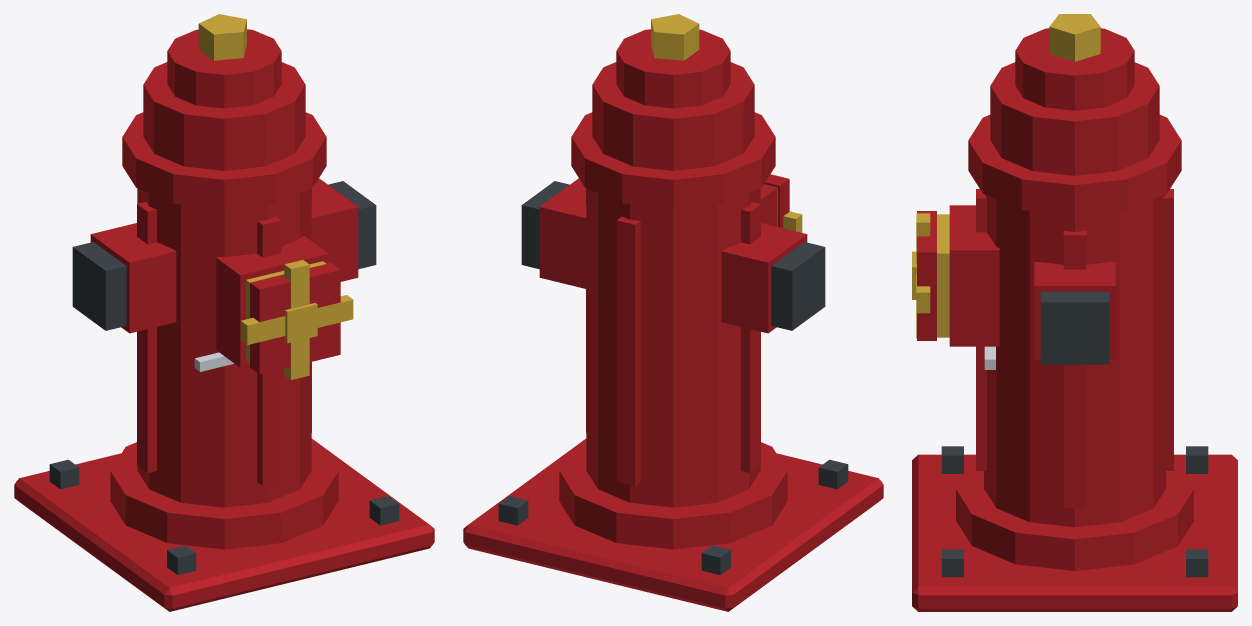
The model's file is obs_fire_hydrant_geyser.glb.
3 renders of one model, left to right at view 1: azimuth 30°, elevation 25°; view 2: azimuth 150°, elevation 25°; view 3: azimuth 270°, elevation 25°, orthographic. The views are drawn at different scales.
Visible parts, largest first — view 1: body, cap_spin, bolt_fl, top_pentagon_nut; view 2: body, bolt_fl, top_pentagon_nut, cap_spin; view 3: body, bolt_fl, top_pentagon_nut, cap_spin.
Boxes of the visible parts, x1,y1,x2,y2 form: body: (14,29,434,611); cap_spin: (240,260,353,379); bolt_fl: (49,181,399,574); top_pentagon_nut: (198,14,326,362); body: (463,29,883,611); bolt_fl: (498,181,848,574); top_pentagon_nut: (651,14,777,226); cap_spin: (764,174,802,232); body: (912,28,1237,611); bolt_fl: (941,291,1208,577); top_pentagon_nut: (937,14,1100,337); cap_spin: (912,211,936,340).
Bounding box in the file's own units: 0.52 × 0.92 × 0.52.
